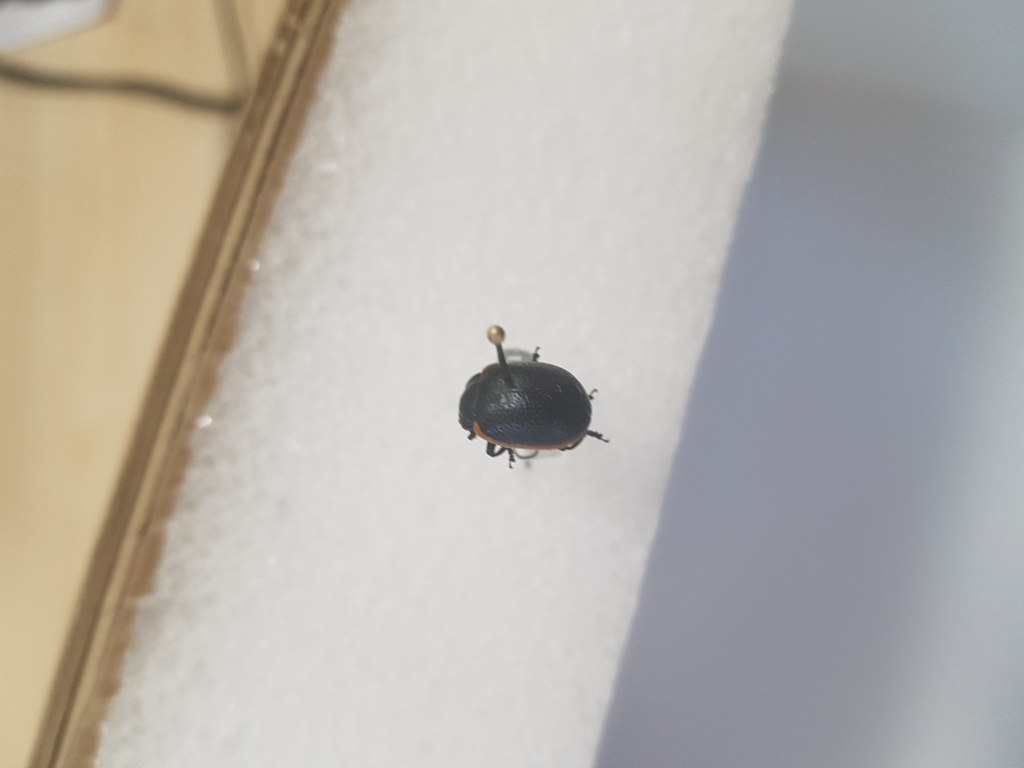Chrysolina_gypsophila: (452, 344, 615, 469)
